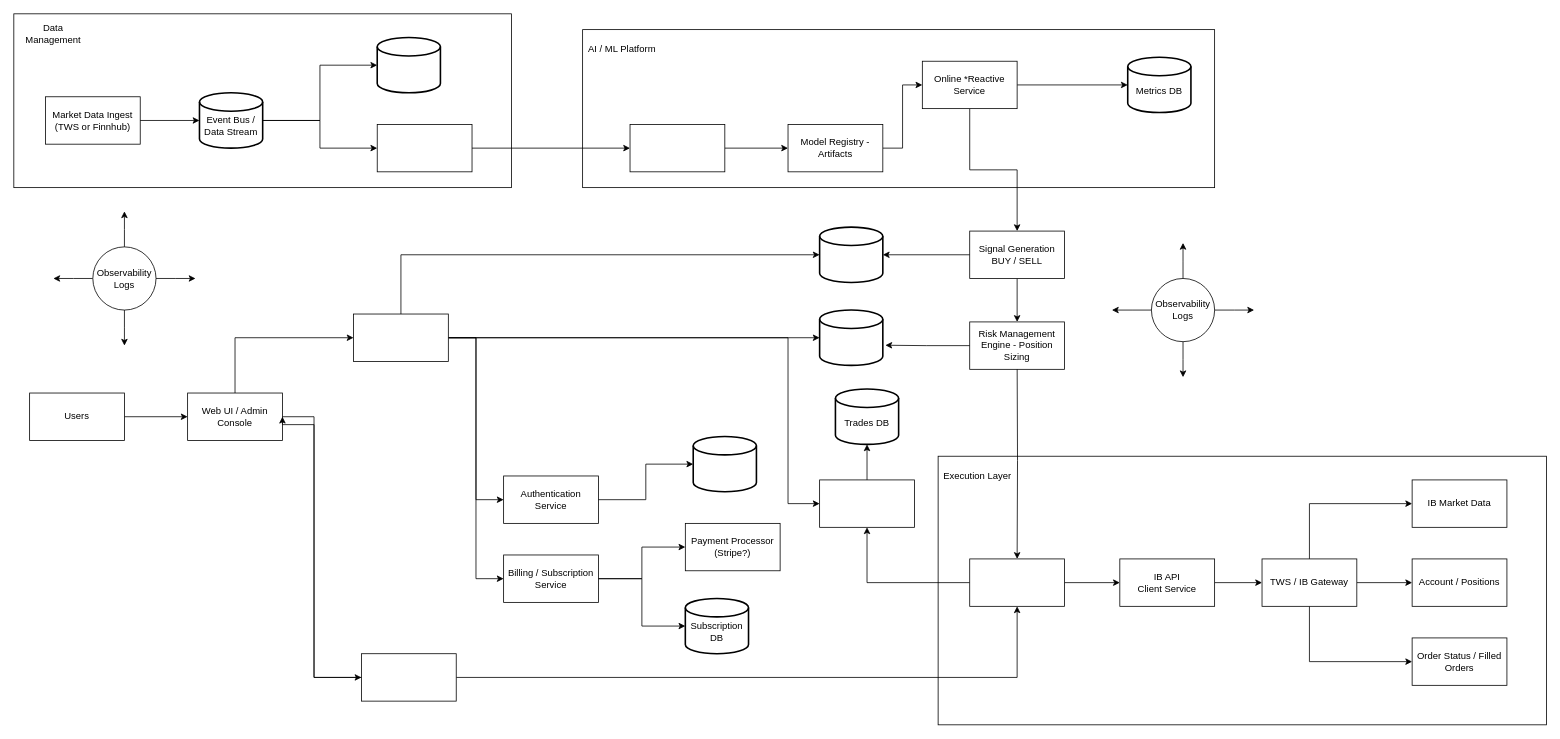
This 1560x739 diagram has some shape labels left out. Here are the shapes that lost their labels. From the top down, the box of each, then its label:
(376, 36, 441, 93): Historical Data
(376, 124, 472, 172): Feature Engine
(629, 124, 725, 172): Model Training Pipeline
(818, 226, 883, 283): Signals DB
(353, 313, 448, 361): API Gateway
(818, 309, 883, 366): Risks / Positions DB
(692, 435, 757, 492): Identity Provider DB
(819, 479, 914, 527): Trade Tracker / Profit Loss
(969, 558, 1065, 606): Order Management System
(361, 653, 456, 701): Realtime WebSocket Gateway
